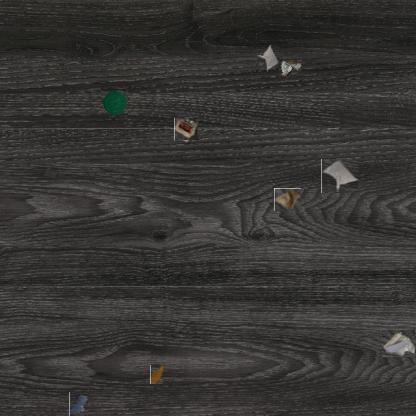dirty: (321, 159, 358, 193), (382, 329, 416, 357), (102, 89, 130, 117), (256, 46, 280, 72), (274, 188, 301, 211), (175, 118, 199, 141), (278, 58, 302, 78)
liquid: (69, 392, 88, 416), (150, 364, 163, 384)
